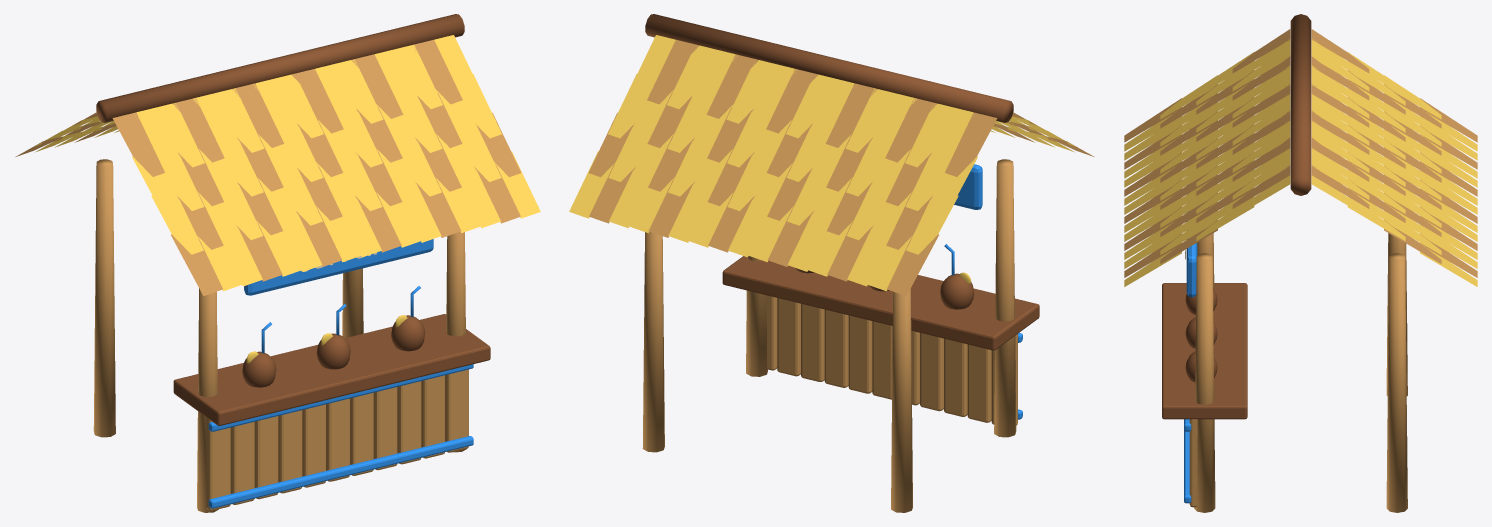
The model's file is juice-hut.glb.
The picture shows the model from 3 angles, left to right: view 1: azimuth 30°, elevation 25°; view 2: azimuth 150°, elevation 25°; view 3: azimuth 270°, elevation 25°; orthographic projection. The views are drawn at different scales.
Parts seen in each view (by area): view 1: Bamboo post; view 2: Bamboo post; view 3: Bamboo post.
Part boxes in pixels (x1,y1,x2,y2): Bamboo post: [15, 14, 540, 512]; Bamboo post: [569, 14, 1094, 512]; Bamboo post: [1124, 14, 1477, 512].
Bounding box in the file's own units: 3.6 × 3.68 × 3.31.
